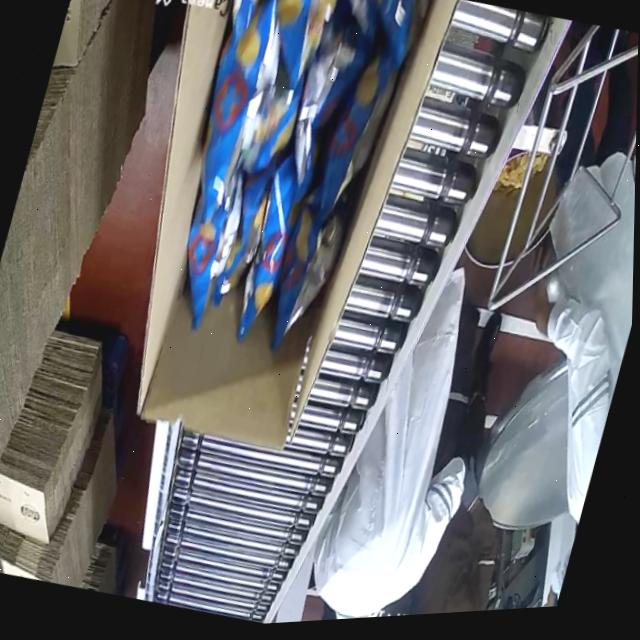PAPRIKA: (130, 0, 420, 370)
